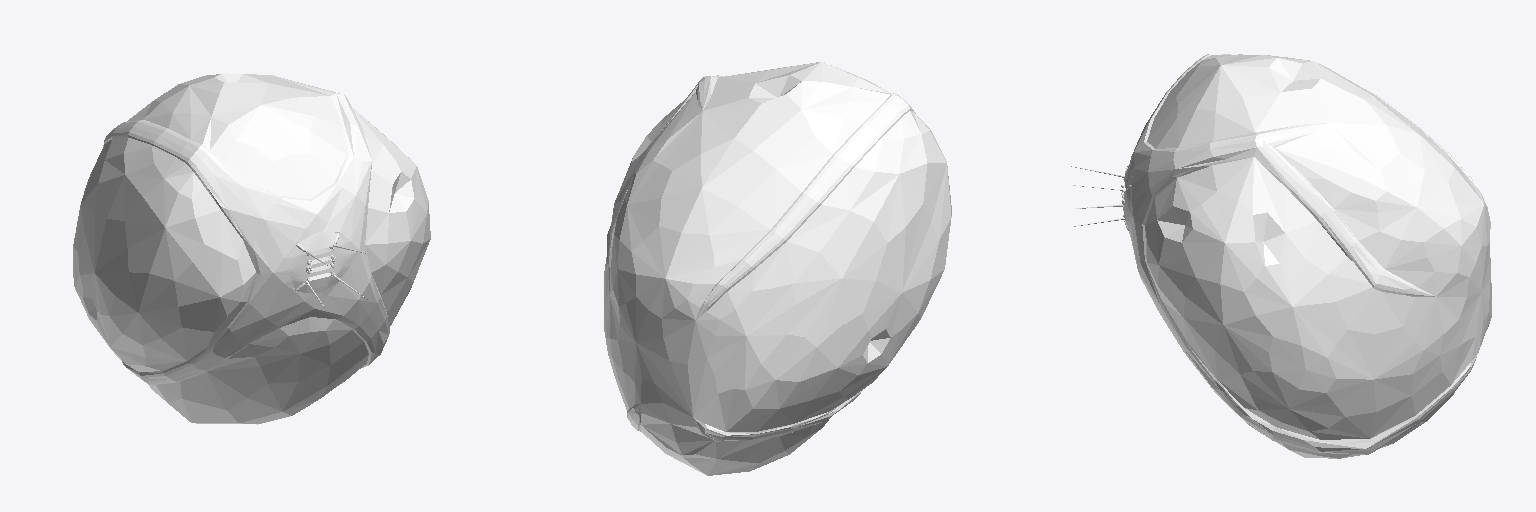
Rendered from Rlaan_Mining_Base.obj.
3 views of the same model, side by side, from view 1: azimuth 30°, elevation 25°; view 2: azimuth 150°, elevation 25°; view 3: azimuth 270°, elevation 25° (orthographic).
Parts seen in each view (by area): view 1: icosahedron1_ASTEROID; view 2: icosahedron1_ASTEROID; view 3: icosahedron1_ASTEROID.
Boxes of the visible parts, <box> form: icosahedron1_ASTEROID: <box>73,74,430,424</box>; icosahedron1_ASTEROID: <box>604,62,951,475</box>; icosahedron1_ASTEROID: <box>1071,54,1491,458</box>.
Size of the model in its own units: 11.08 by 12.7 by 13.4.